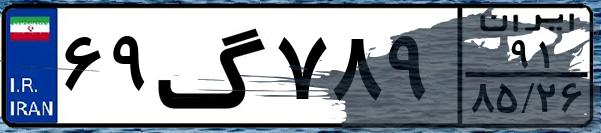1: (537, 27, 568, 80)
2: (535, 70, 560, 125)
5: (495, 70, 520, 125)
6: (57, 26, 110, 100), (560, 70, 590, 125)
7: (270, 28, 330, 110)
8: (330, 28, 385, 110), (470, 70, 495, 125)
9: (385, 28, 445, 110), (110, 28, 156, 98), (508, 27, 537, 80)
گ: (156, 12, 270, 120)
